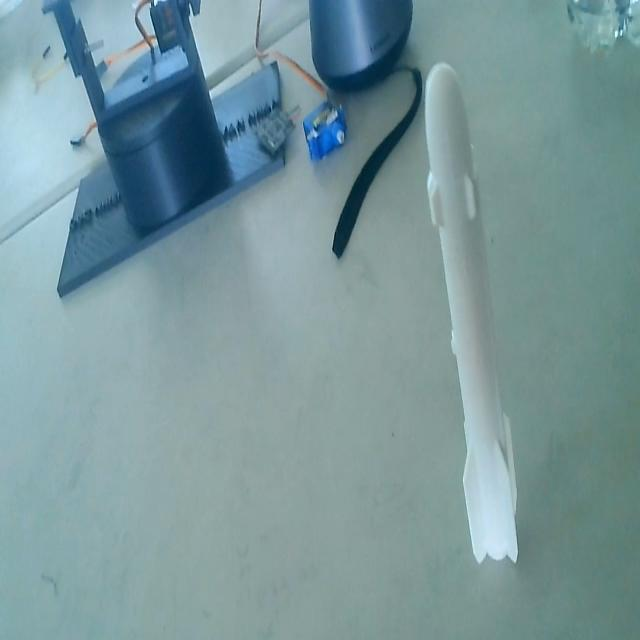Rocket: (421, 57, 524, 567)
